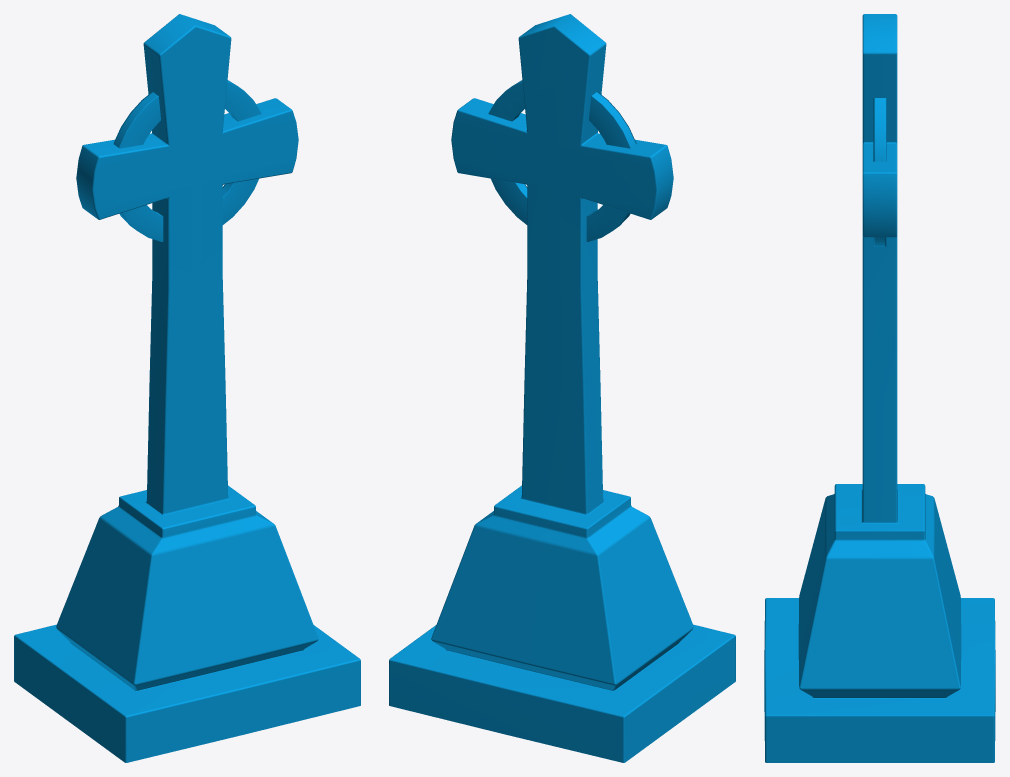
The model's file is graveyard_tomb_cross.fbx.
The picture shows the model from 3 angles, left to right: view 1: azimuth 30°, elevation 25°; view 2: azimuth 150°, elevation 25°; view 3: azimuth 270°, elevation 25°; orthographic projection. The views are drawn at different scales.
Parts seen in each view (by area): view 1: tomb_cross; view 2: tomb_cross; view 3: tomb_cross.
Boxes of the visible parts, x1=… form: tomb_cross: x1=14, y1=14, x2=360, y2=762; tomb_cross: x1=389, y1=14, x2=735, y2=762; tomb_cross: x1=764, y1=14, x2=995, y2=762.
Bounding box in the file's own units: 31.28 × 85.36 × 25.92.
